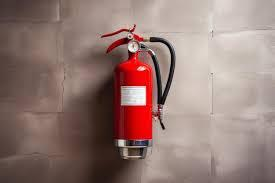wall-mounted: (96, 16, 183, 170)
